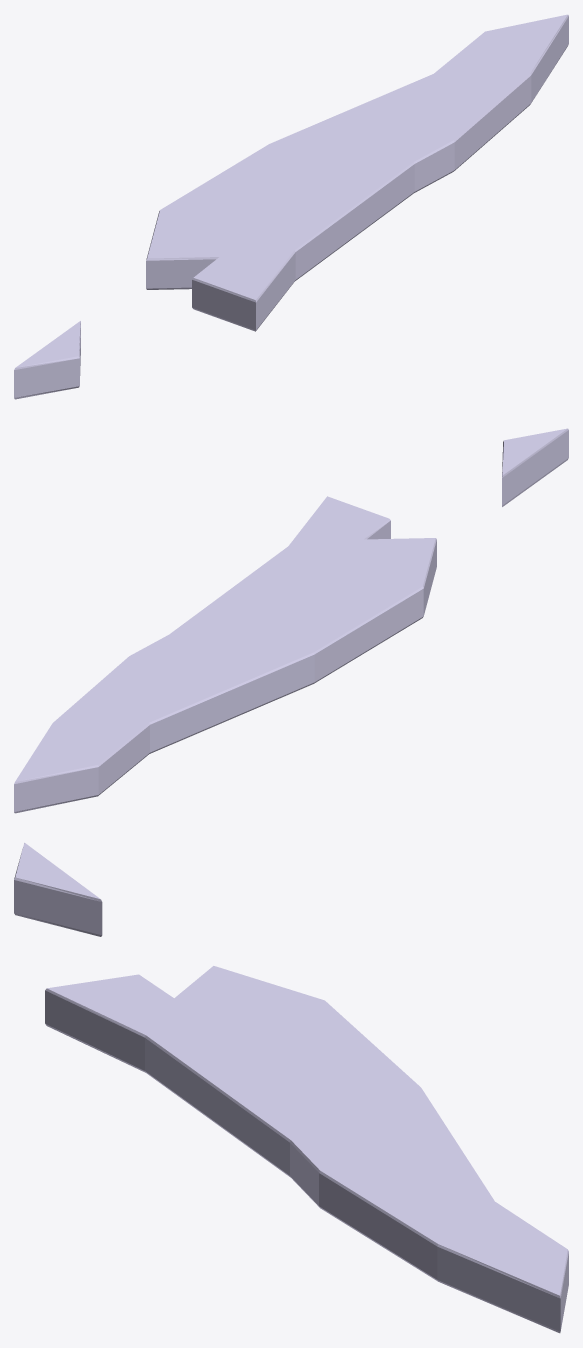
The model's file is TLS.glb.
The picture shows the model from 3 angles, top to bottom: view 1: azimuth 30°, elevation 25°; view 2: azimuth 210°, elevation 25°; view 3: azimuth 270°, elevation 25°; orthographic projection. The views are drawn at different scales.
Size of the model in its own units: 1.76 by 0.068 by 0.9068.
